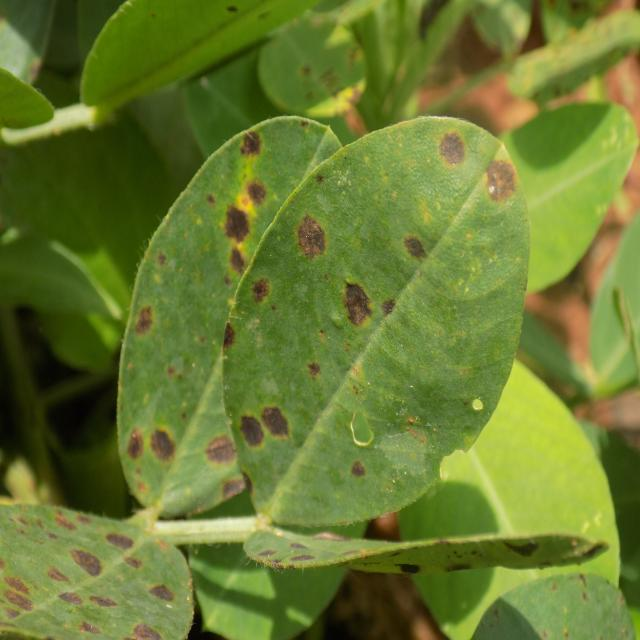Ground nut_tikka leaf spot: (225, 110, 529, 534), (109, 108, 354, 518)
